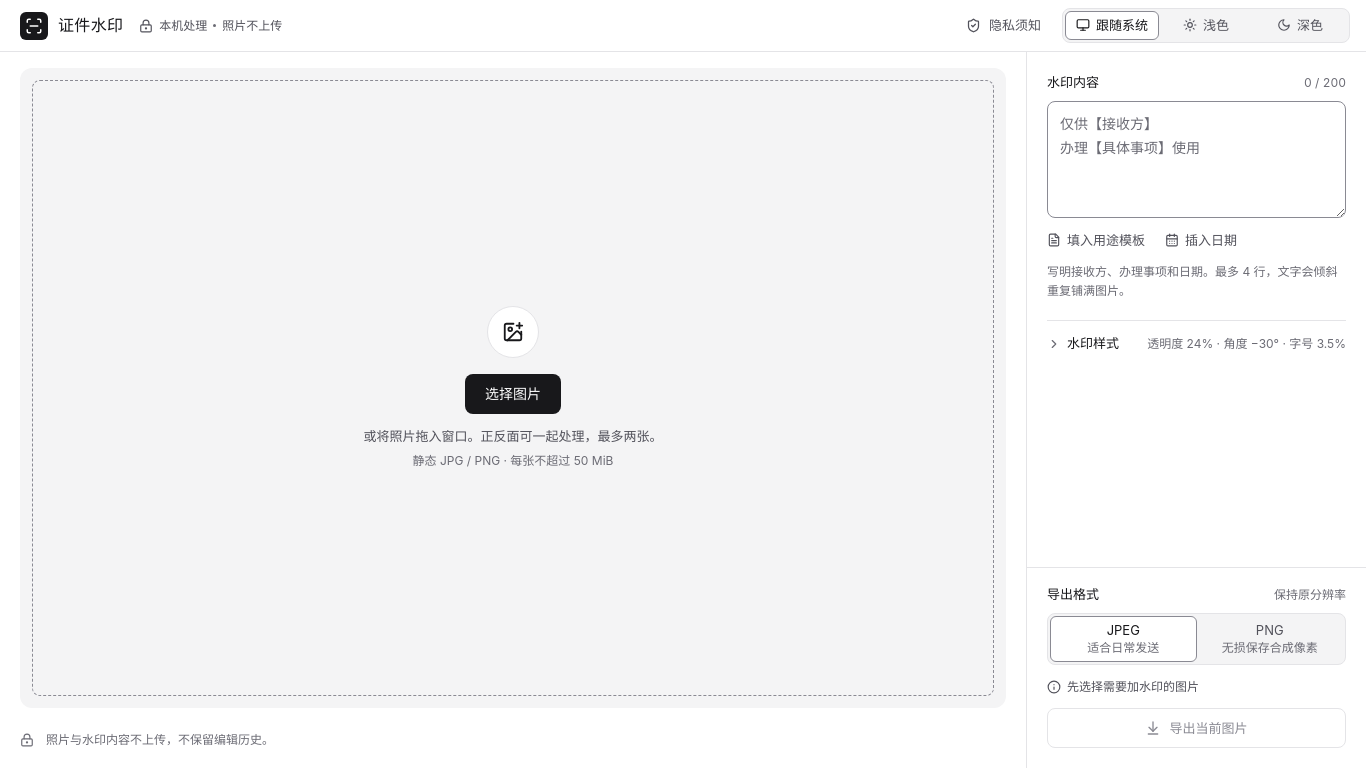
Test: cancelling the folder dialog says that nothing was exported
Click the button "选择图片" at (90, 388), box [32,80,994,696]
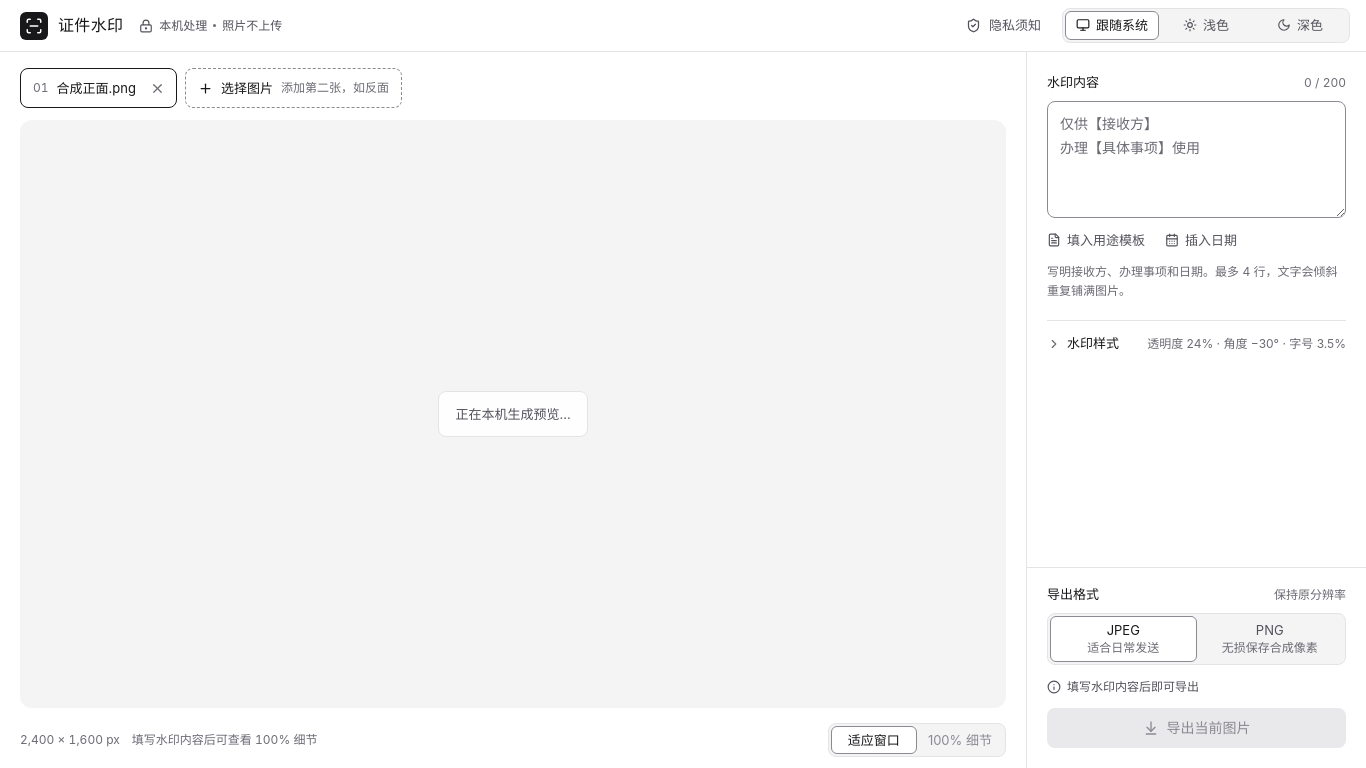
Result: the text "合成正面.png" is shown at [57,78,136,98]
Type "仅供测试使用" into the text box labelled "水印内容" at (1196, 159), box [1047,101,1346,218]
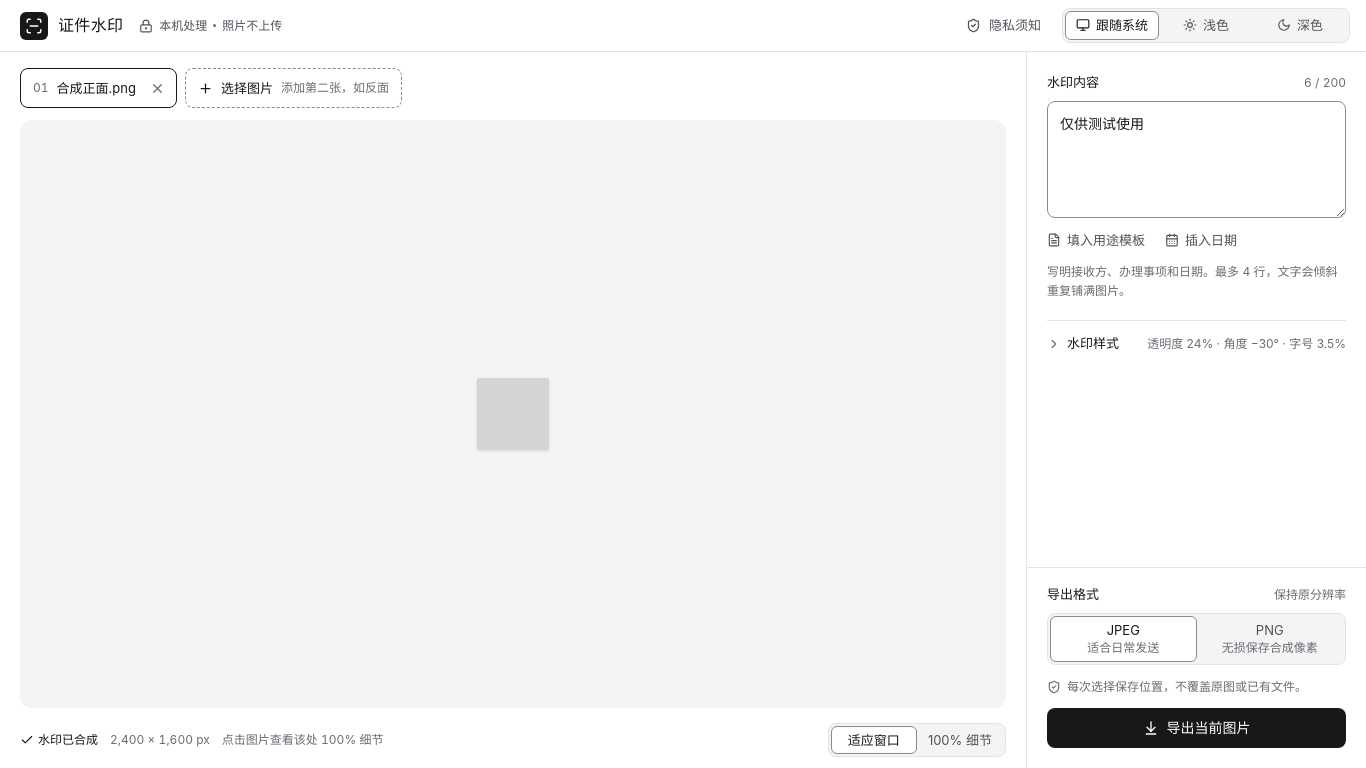
Result: the button "导出当前图片" is enabled
Click the button "导出当前图片" at (1196, 728), box [1047,708,1346,748]
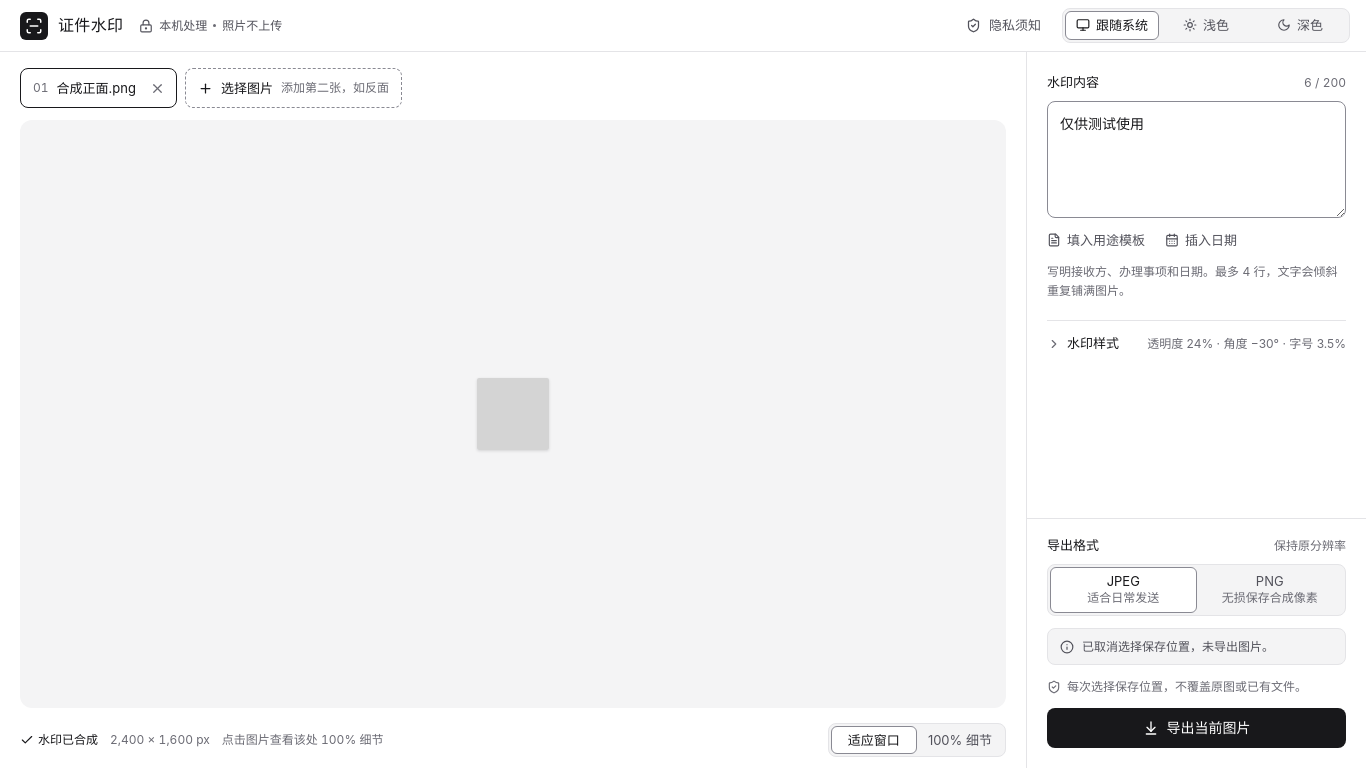
Result: the text "已取消选择保存位置，未导出图片。" is shown at [1082,637,1274,656]
